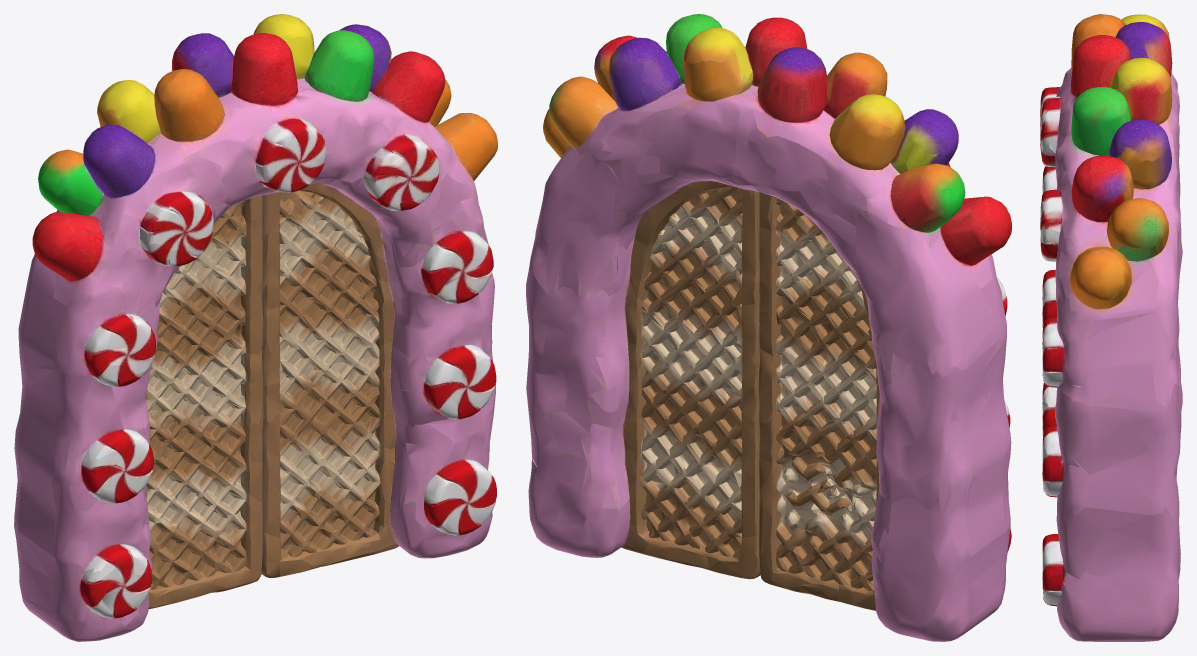
Rendered from puertacaramelo.glb.
The picture shows the model from 3 angles, left to right: view 1: azimuth 30°, elevation 25°; view 2: azimuth 150°, elevation 25°; view 3: azimuth 270°, elevation 25°; orthographic projection. The views are drawn at different scales.
Visible parts, largest first — view 1: output_unwrapped; view 2: output_unwrapped; view 3: output_unwrapped.
Part boxes in pixels (x1,y1,x2,y2): output_unwrapped: (14, 14, 497, 641); output_unwrapped: (526, 14, 1011, 641); output_unwrapped: (1040, 14, 1182, 641).
Bounding box in the file's own units: 1.66 × 1.9 × 0.4784.
Materials: 1 (1 with a texture image).
